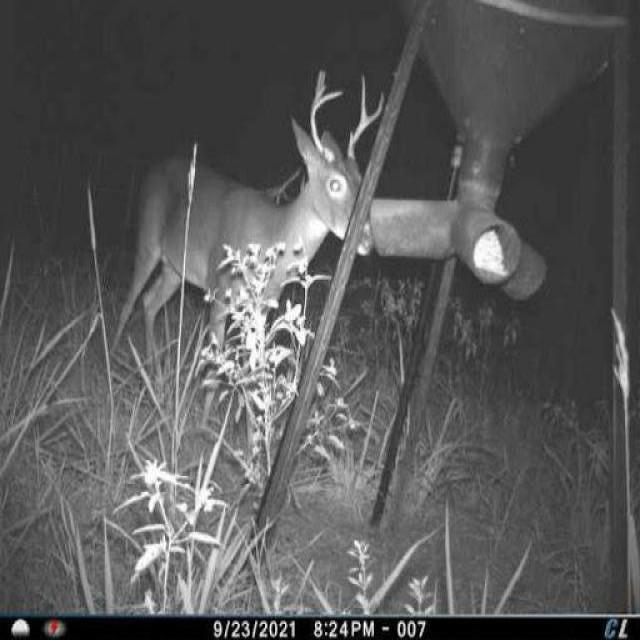deer: (130, 61, 382, 454)
